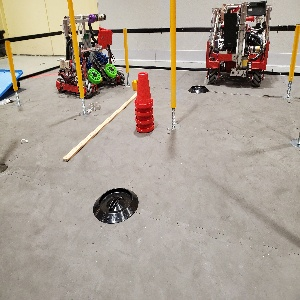Red_4: (125, 69, 159, 132)
